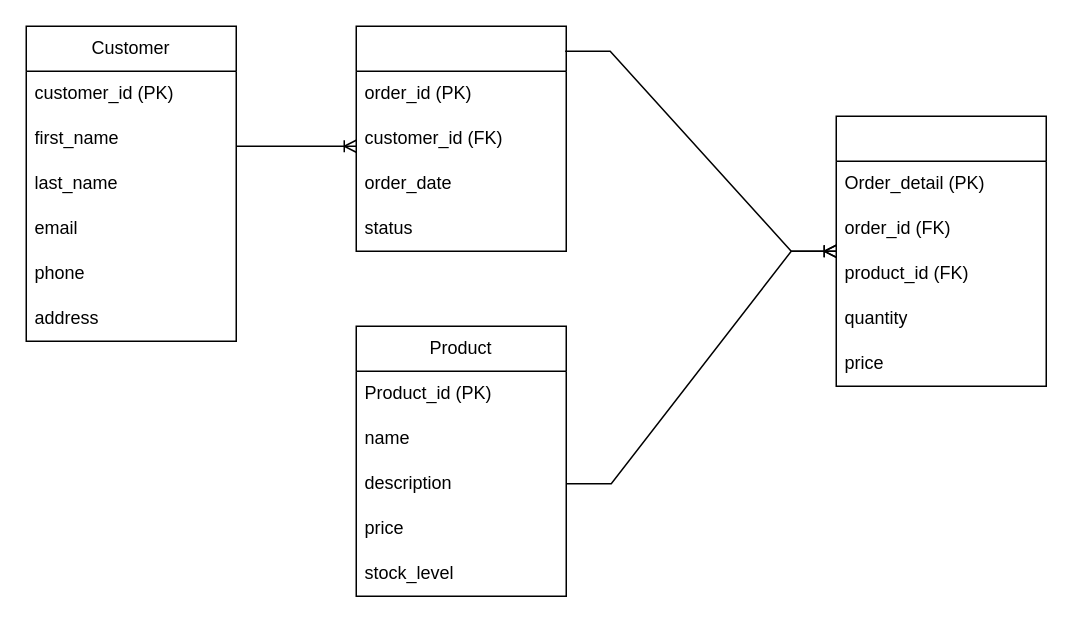
This 1073x623 diagram has some shape labels left out. Each missing label, with the box of its shape:
Order(checkout): (355, 25, 566, 251)
Order_Details(cart): (835, 115, 1046, 386)
